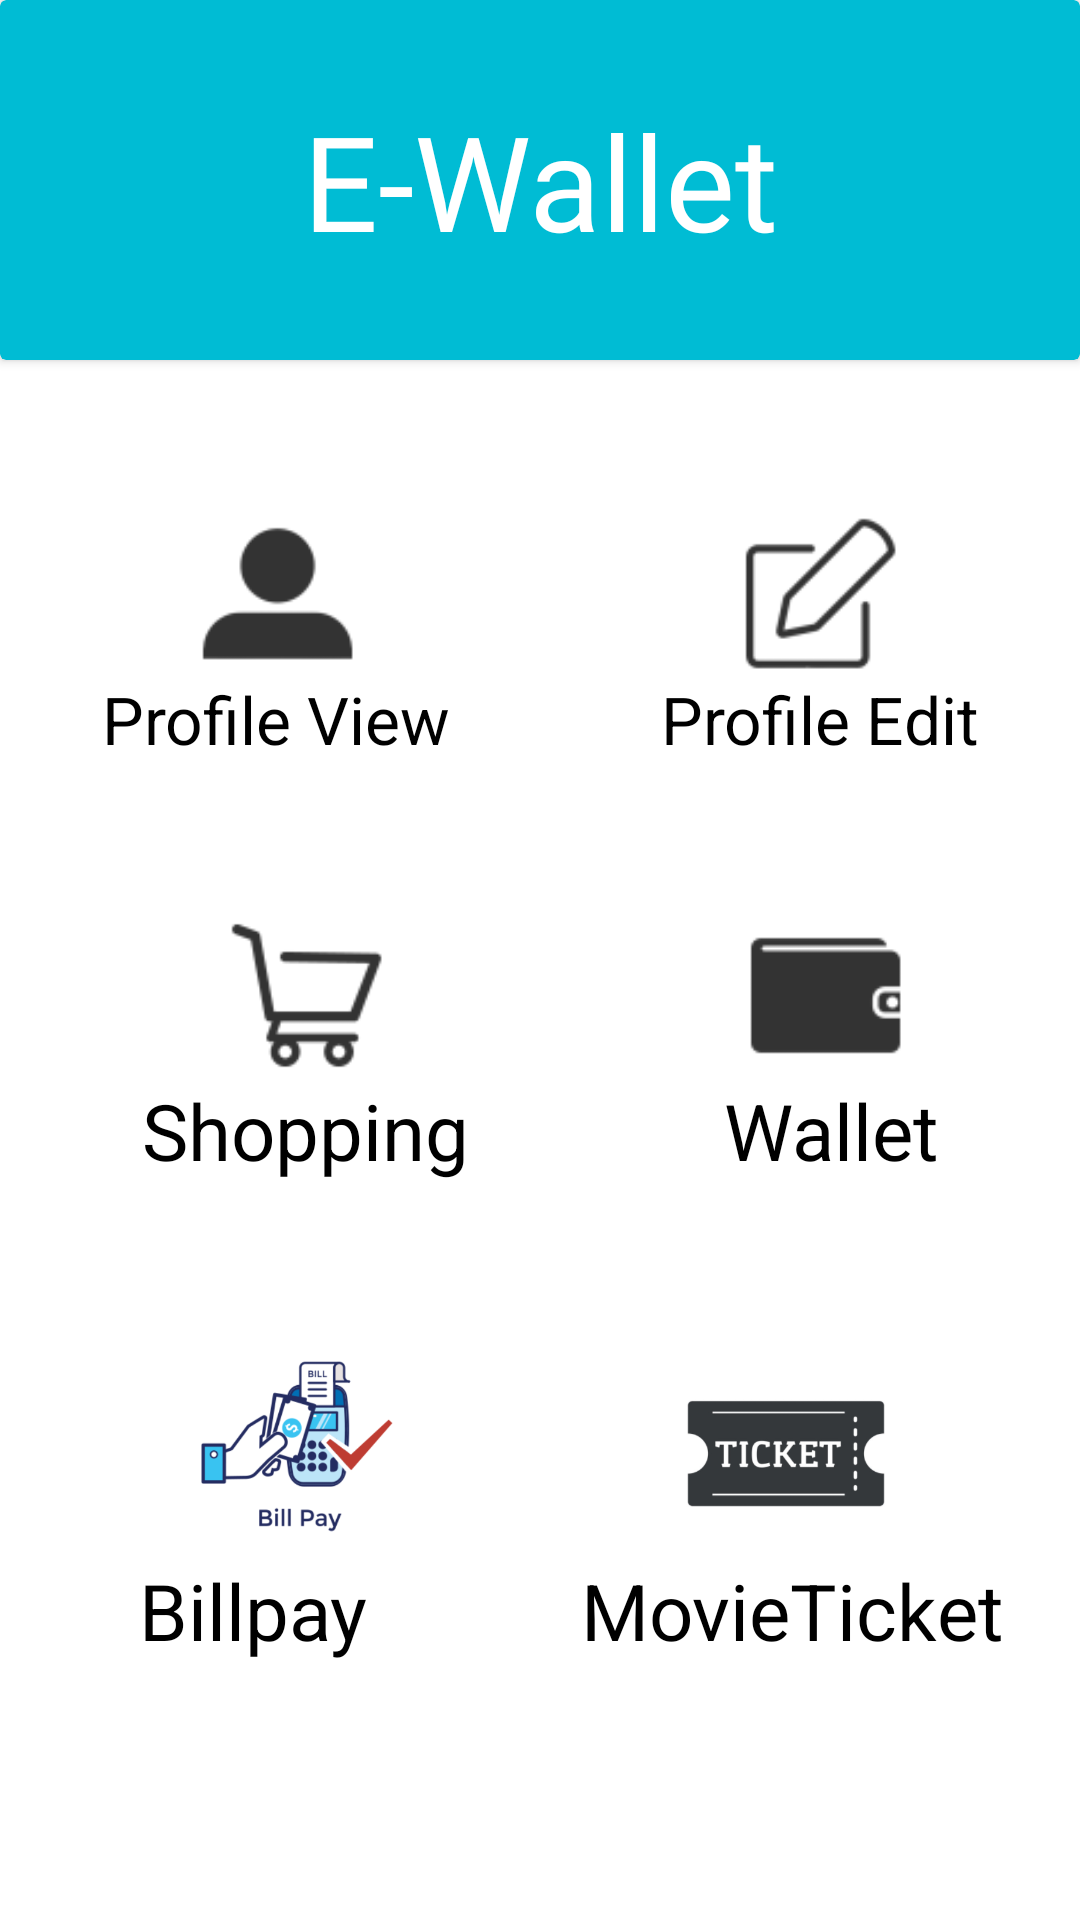

Icon bounding boxes for this 1080px x 1920px phone screenshot, format (x1, y1, x2, y2):
cart: (231, 924, 382, 1067)
